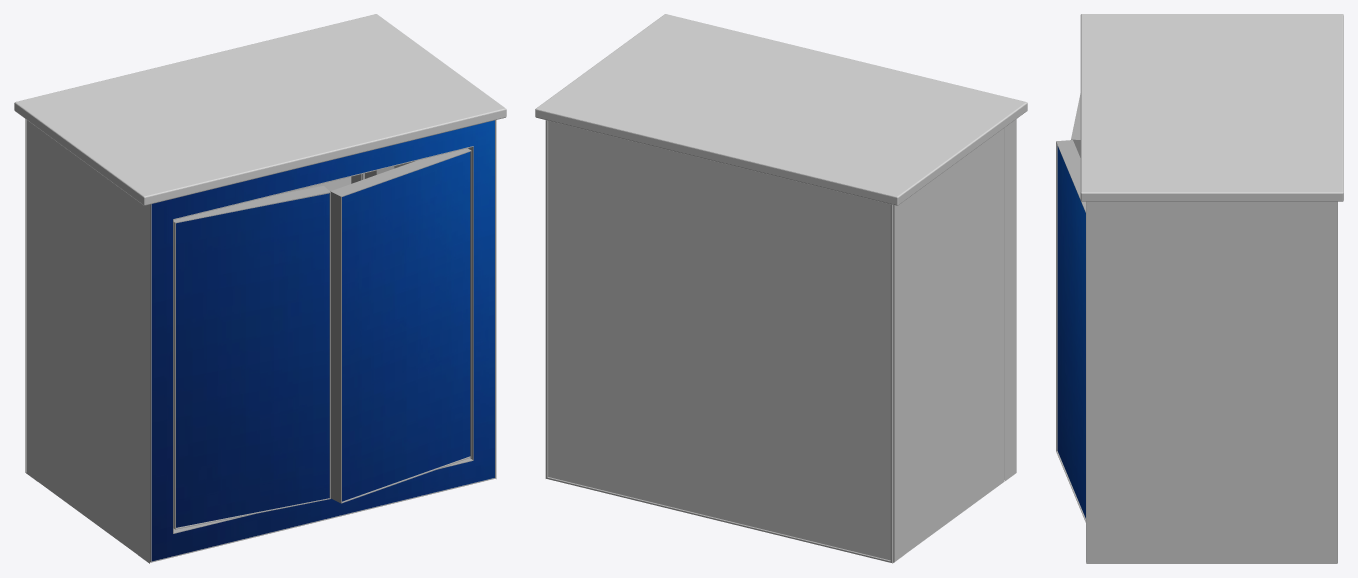
File: bm-counter-storage.glb
3 renders of one model, left to right at view 1: azimuth 30°, elevation 25°; view 2: azimuth 150°, elevation 25°; view 3: azimuth 270°, elevation 25°, orthographic.
Visible parts, largest first — view 1: BM_counter_storage_graphic, BM_counter_structure_panels, BM_counter_structure_metal; view 2: BM_counter_structure_panels, BM_counter_structure_metal; view 3: BM_counter_structure_panels, BM_counter_storage_graphic, BM_counter_structure_metal.
Boxes of the visible parts, box(x1,y1,x2,y2) form: BM_counter_storage_graphic: box(151, 120, 494, 561); BM_counter_structure_panels: box(14, 14, 506, 563); BM_counter_structure_metal: box(150, 120, 495, 562); BM_counter_structure_panels: box(535, 14, 1027, 563); BM_counter_structure_metal: box(545, 120, 1004, 562); BM_counter_structure_panels: box(1080, 14, 1343, 563); BM_counter_storage_graphic: box(1057, 146, 1085, 518); BM_counter_structure_metal: box(1056, 93, 1337, 562).
Size of the model in its own units: 1.04 by 1.02 by 0.707.
3 materials, 1 textured.
